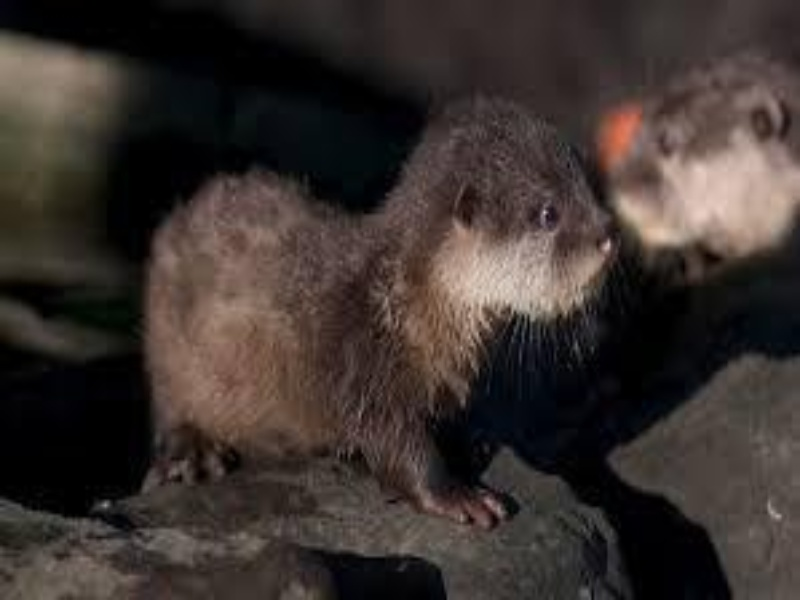minkish: (139, 91, 614, 528), (609, 50, 800, 254)
